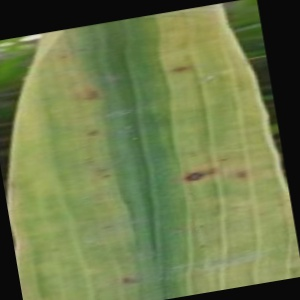Bacterial_Leaf_Blight: (112, 271, 147, 290), (165, 60, 193, 77), (182, 167, 207, 185), (80, 88, 104, 104), (234, 167, 250, 181), (83, 127, 101, 139), (204, 164, 220, 177), (186, 149, 203, 161), (121, 195, 137, 206), (84, 155, 97, 168), (47, 244, 63, 254), (99, 223, 116, 230), (273, 200, 286, 209), (216, 156, 230, 164), (256, 211, 268, 220), (213, 204, 224, 211), (198, 243, 208, 250), (60, 54, 69, 61), (197, 224, 207, 230), (102, 174, 112, 179)
